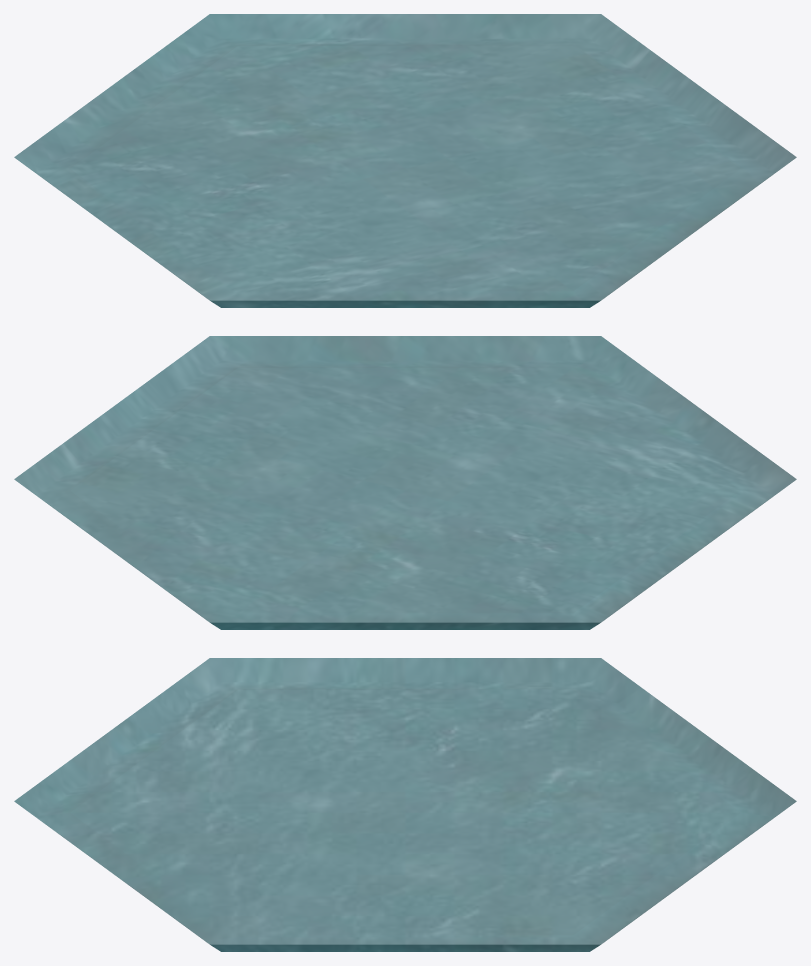
Rendered from shallow-ocean.glb.
3 views of the same model, one above another, from view 1: azimuth 30°, elevation 25°; view 2: azimuth 150°, elevation 25°; view 3: azimuth 270°, elevation 25° (orthographic).
Visible parts, largest first — view 1: Water.001; view 2: Water.001; view 3: Water.001.
Boxes of the visible parts, x1=… form: Water.001: x1=14, y1=14, x2=796, y2=307; Water.001: x1=14, y1=336, x2=796, y2=629; Water.001: x1=14, y1=658, x2=796, y2=951.
Size of the model in its own units: 1.73 by 0.044 by 2.
Materials: 1 (1 with a texture image).
